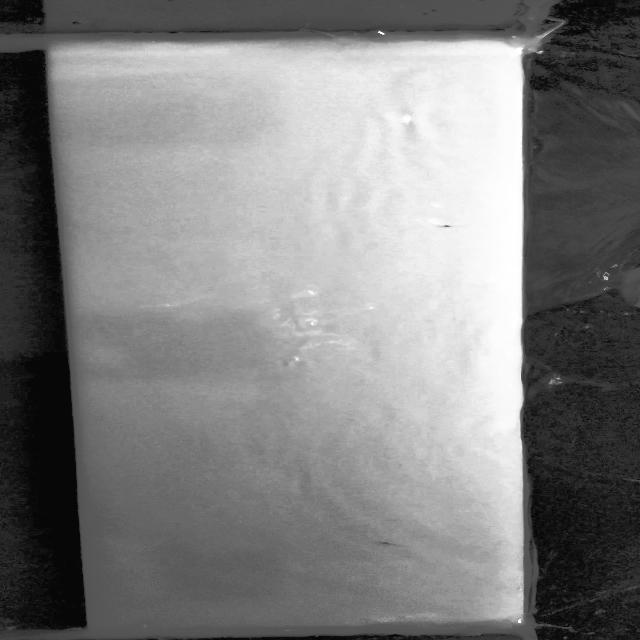shrimp: (424, 216, 463, 230), (372, 535, 408, 550)
